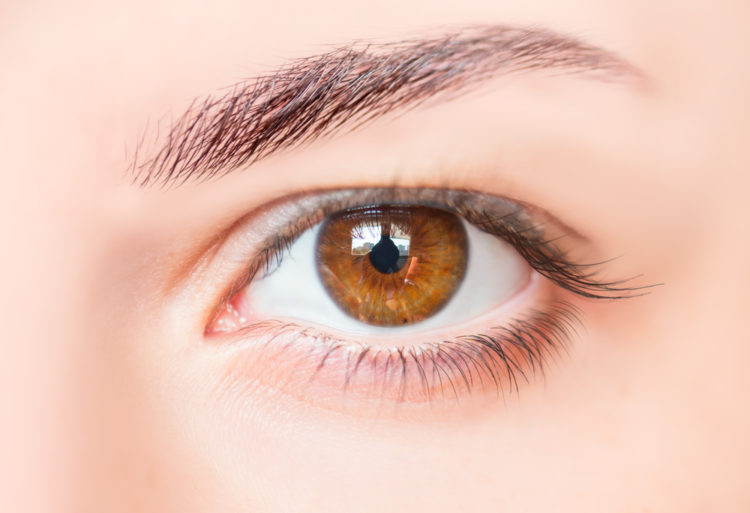iris: (316, 190, 470, 327)
pupil: (367, 237, 405, 272)
